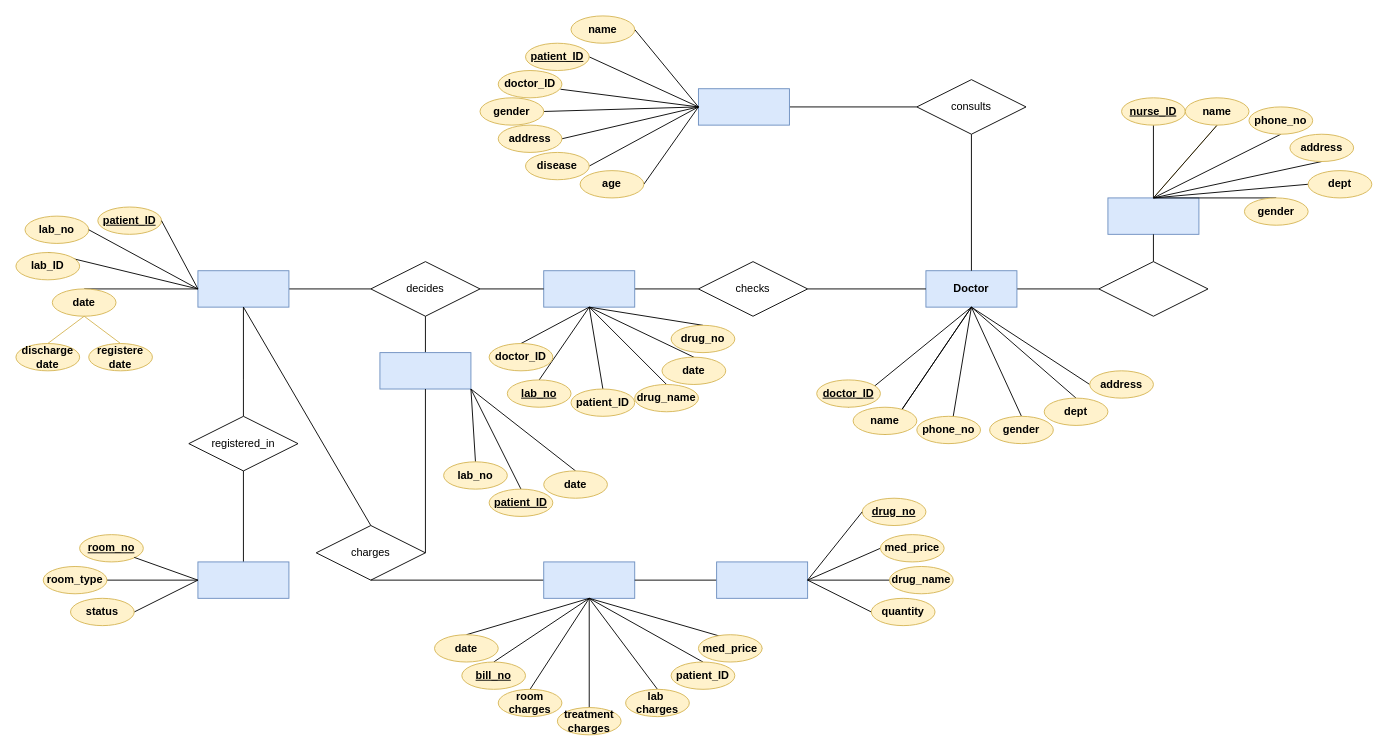
Image size: 1388x751. Some labels were removed from this diagram. The centre of each missing label's shape, as x and y in pixels:
Bill: point 589,579
In_Patient: point 243,288
Lab_Report: point 589,288
Medicine: point 762,579
Nurse: point 1153,215
Out_Patient: point 425,370
Patient: point 743,106
Room: point 243,579
trains: point 1153,288
